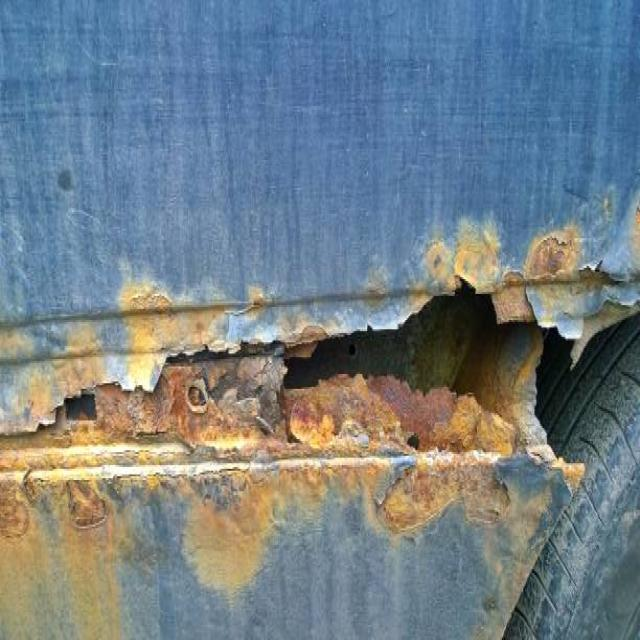Dry Waste: (0, 145, 625, 598)
